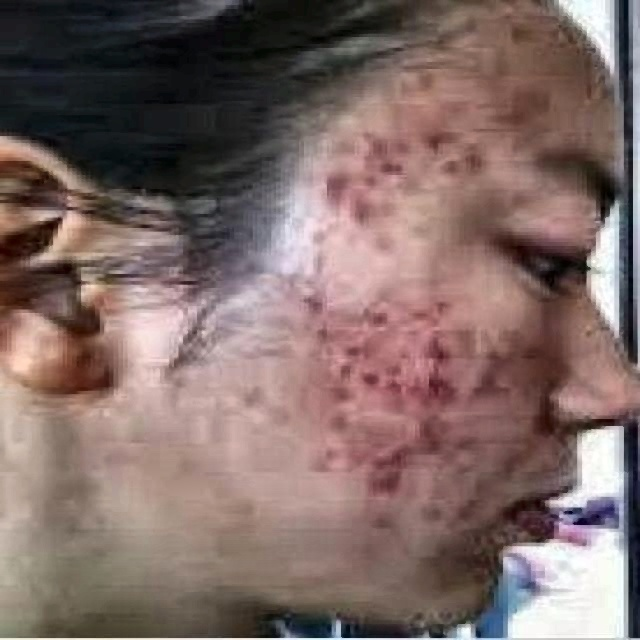papule: (394, 292, 443, 324), (475, 329, 529, 357), (320, 373, 359, 410), (341, 196, 378, 234), (424, 120, 464, 154), (371, 161, 422, 187), (462, 364, 510, 391), (313, 164, 346, 203), (378, 369, 415, 402), (302, 322, 338, 354), (318, 401, 359, 428), (418, 504, 454, 534), (452, 486, 489, 513), (422, 368, 452, 400), (424, 332, 452, 366), (366, 438, 404, 462), (354, 366, 382, 398), (452, 150, 492, 172), (411, 408, 434, 441), (434, 157, 462, 184), (371, 463, 401, 488), (443, 432, 480, 452), (385, 134, 417, 156), (357, 299, 378, 329), (299, 286, 322, 313), (336, 336, 359, 361), (320, 442, 341, 465), (362, 134, 382, 158), (364, 502, 383, 522)
